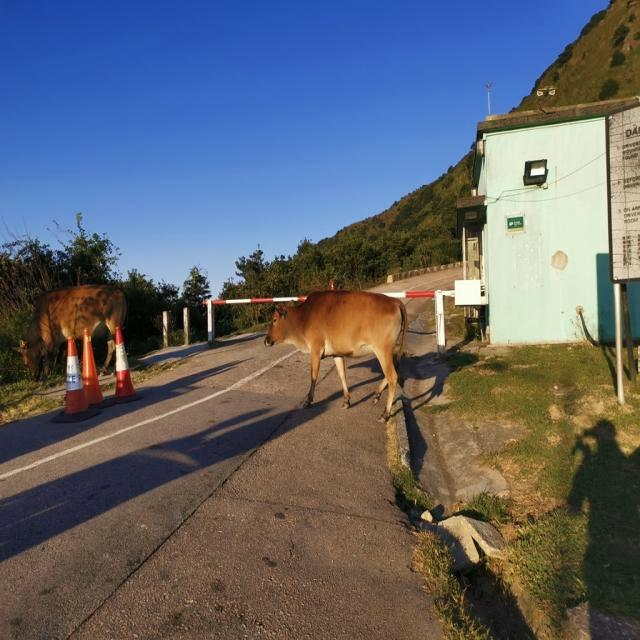cow: (265, 291, 406, 421), (19, 285, 126, 378)
